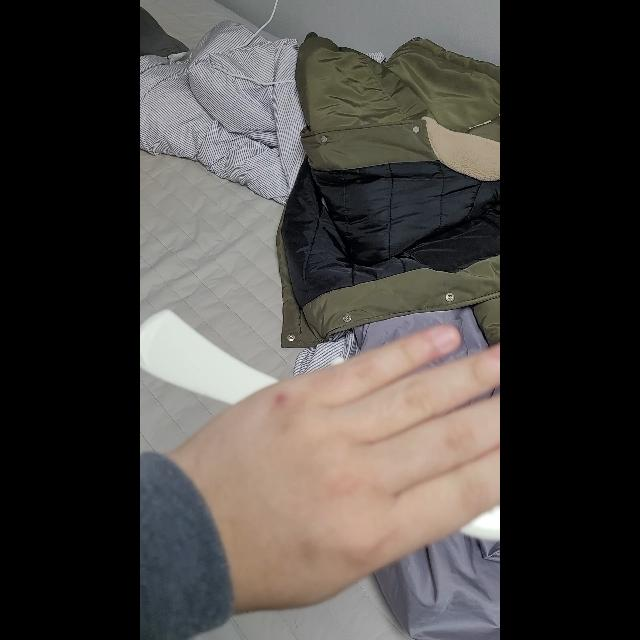COMB: (140, 308, 500, 540)
